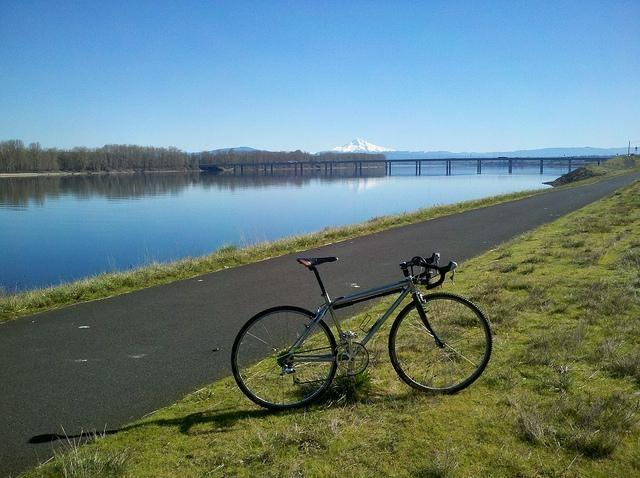bicycle: (230, 255, 496, 412)
